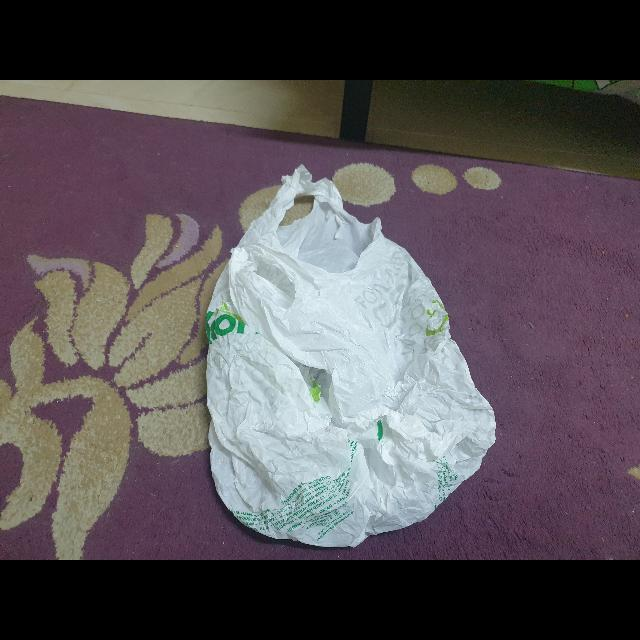plastic_bag: (198, 160, 518, 554)
